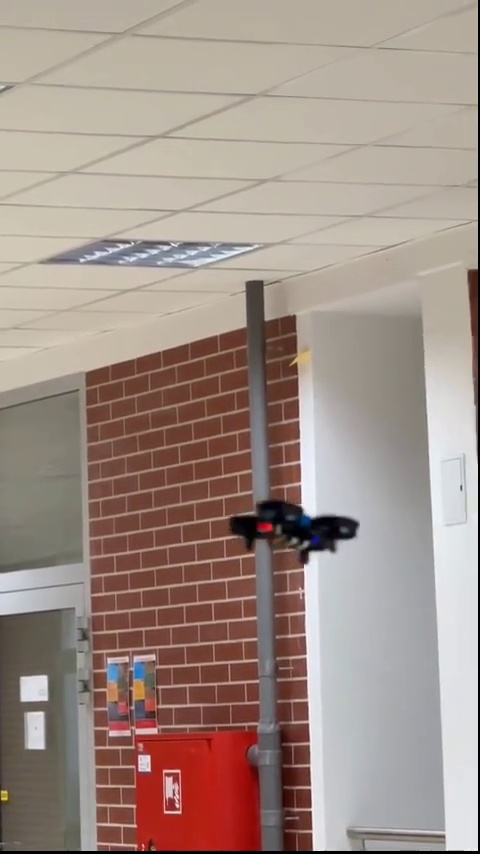drone: (229, 498, 357, 562)
